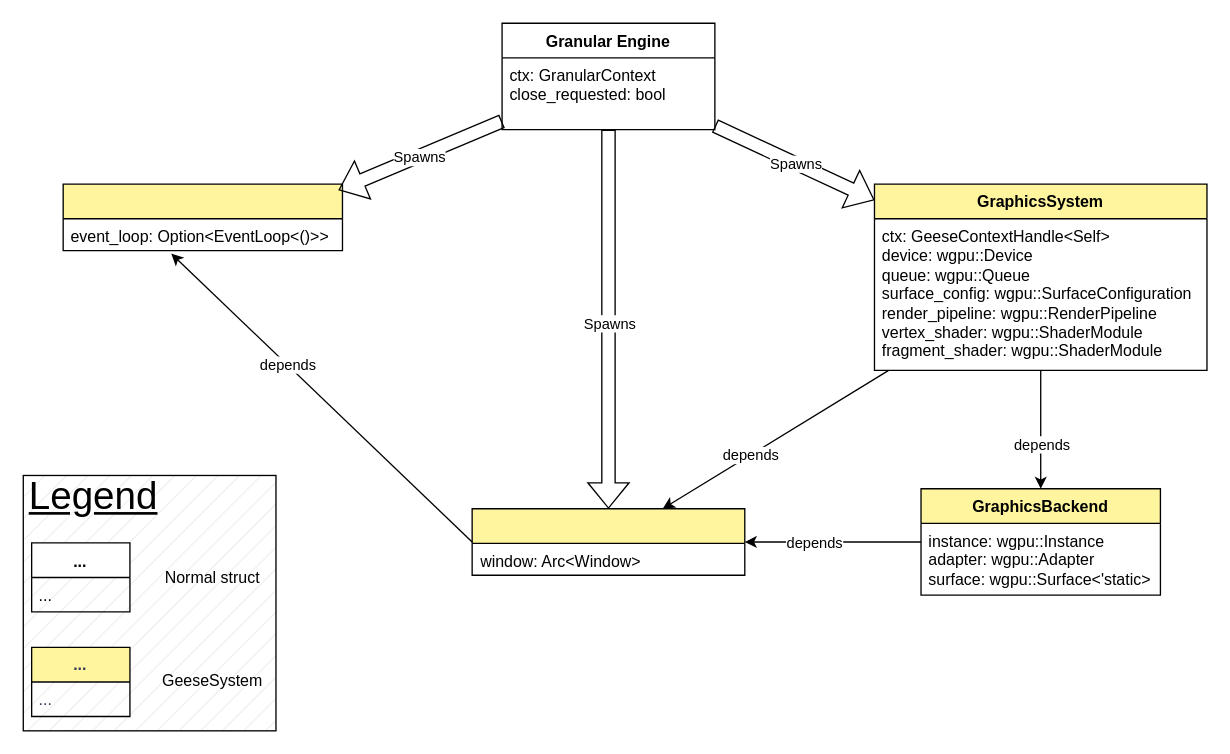
This 1230x754 diagram has some shape labels left out. Here are the shapes that lost their labels. From the top down, the box of each, then its label:
(62, 183, 342, 251): EventLoopSystem
(471, 507, 745, 575): WindowSystem
